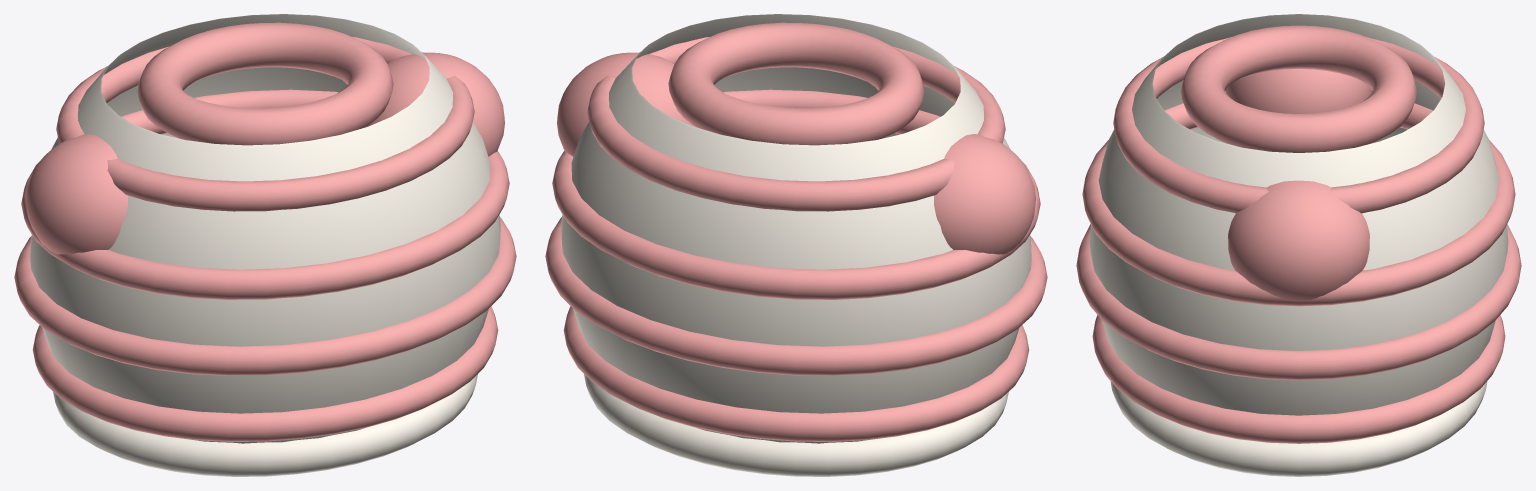
Rendered from striped_tee.glb.
3 views of the same model, side by side, from view 1: azimuth 30°, elevation 25°; view 2: azimuth 150°, elevation 25°; view 3: azimuth 270°, elevation 25° (orthographic). The views are drawn at different scales.
Parts seen in each view (by area): view 1: Body; view 2: Body; view 3: Body.
Boxes of the visible parts, left/top/right/bottom form: Body: left=14, top=14, right=516, bottom=476; Body: left=545, top=14, right=1047, bottom=476; Body: left=1076, top=14, right=1521, bottom=476.
Bounding box in the file's own units: 0.59 × 0.4047 × 0.51.
